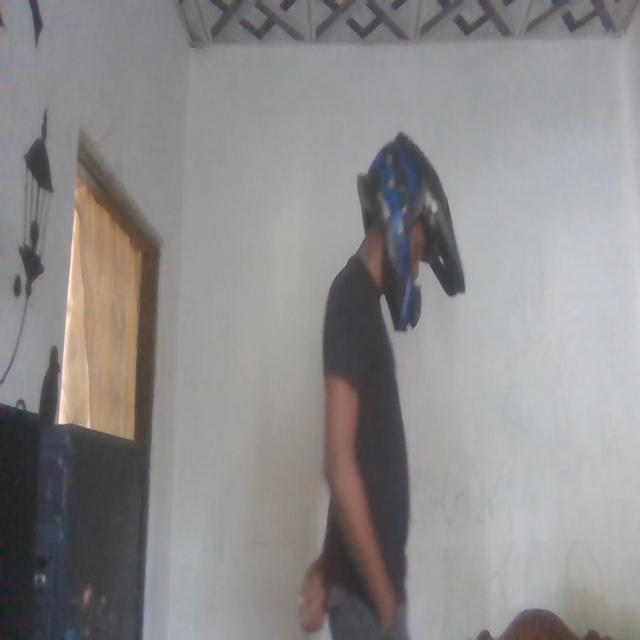Helmet_Wearer: (332, 125, 464, 335)
Person: (308, 130, 458, 640)
